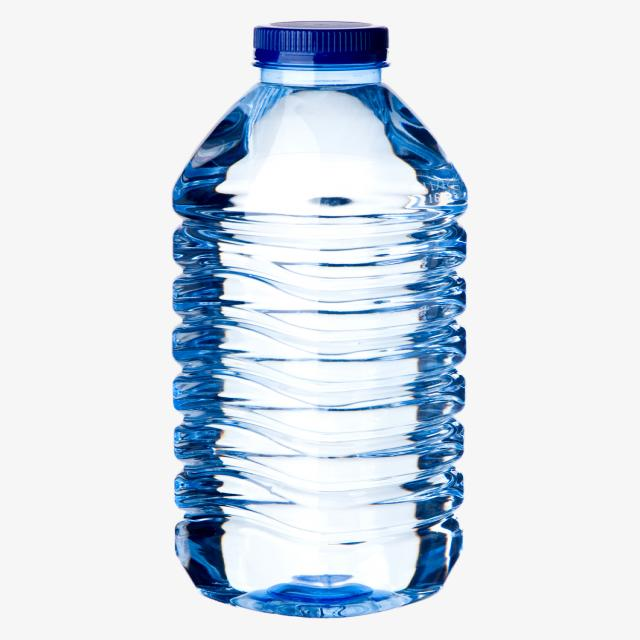full-bottle: (168, 21, 467, 619)
